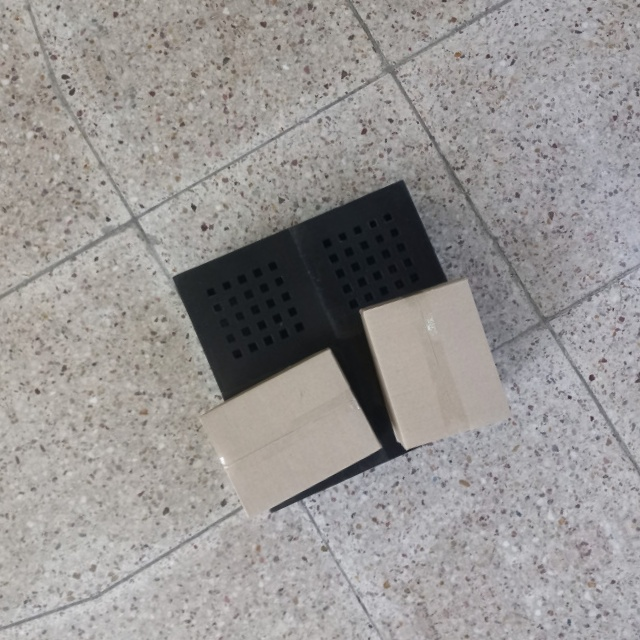box: (196, 343, 385, 521), (356, 273, 515, 454)
